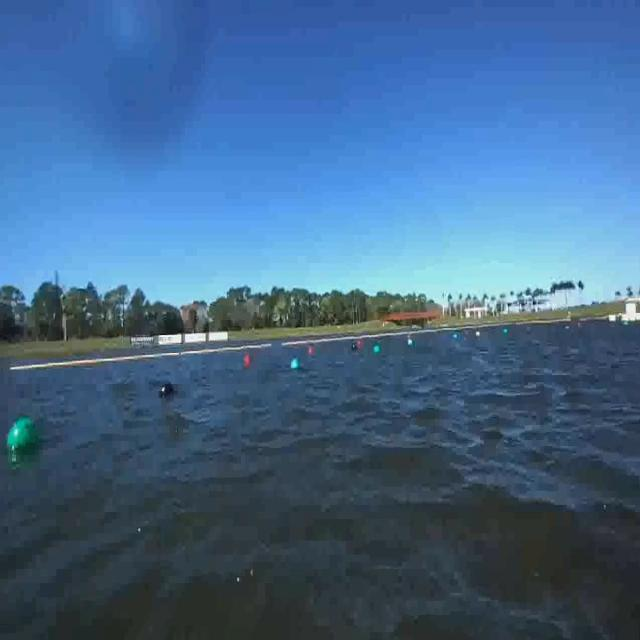black-buoy: (161, 382, 176, 398)
green-buoy: (7, 420, 40, 457), (290, 358, 300, 370), (375, 345, 382, 355)
red-column-buoy: (242, 354, 248, 369)
